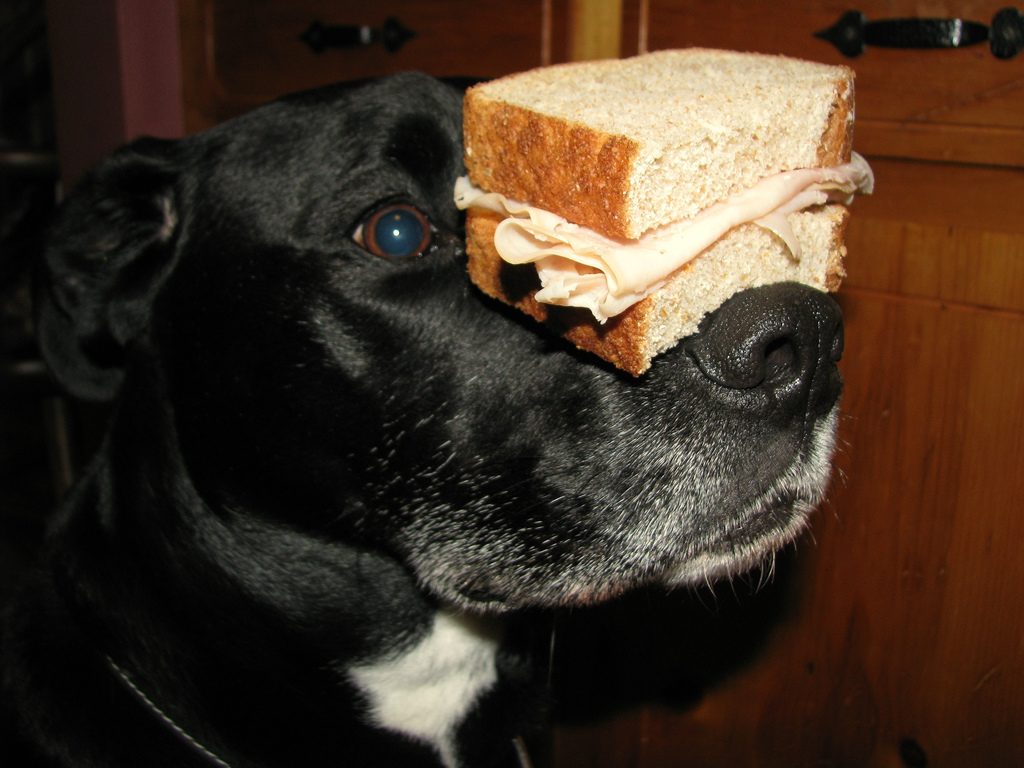slice of bread: (470, 58, 858, 209)
